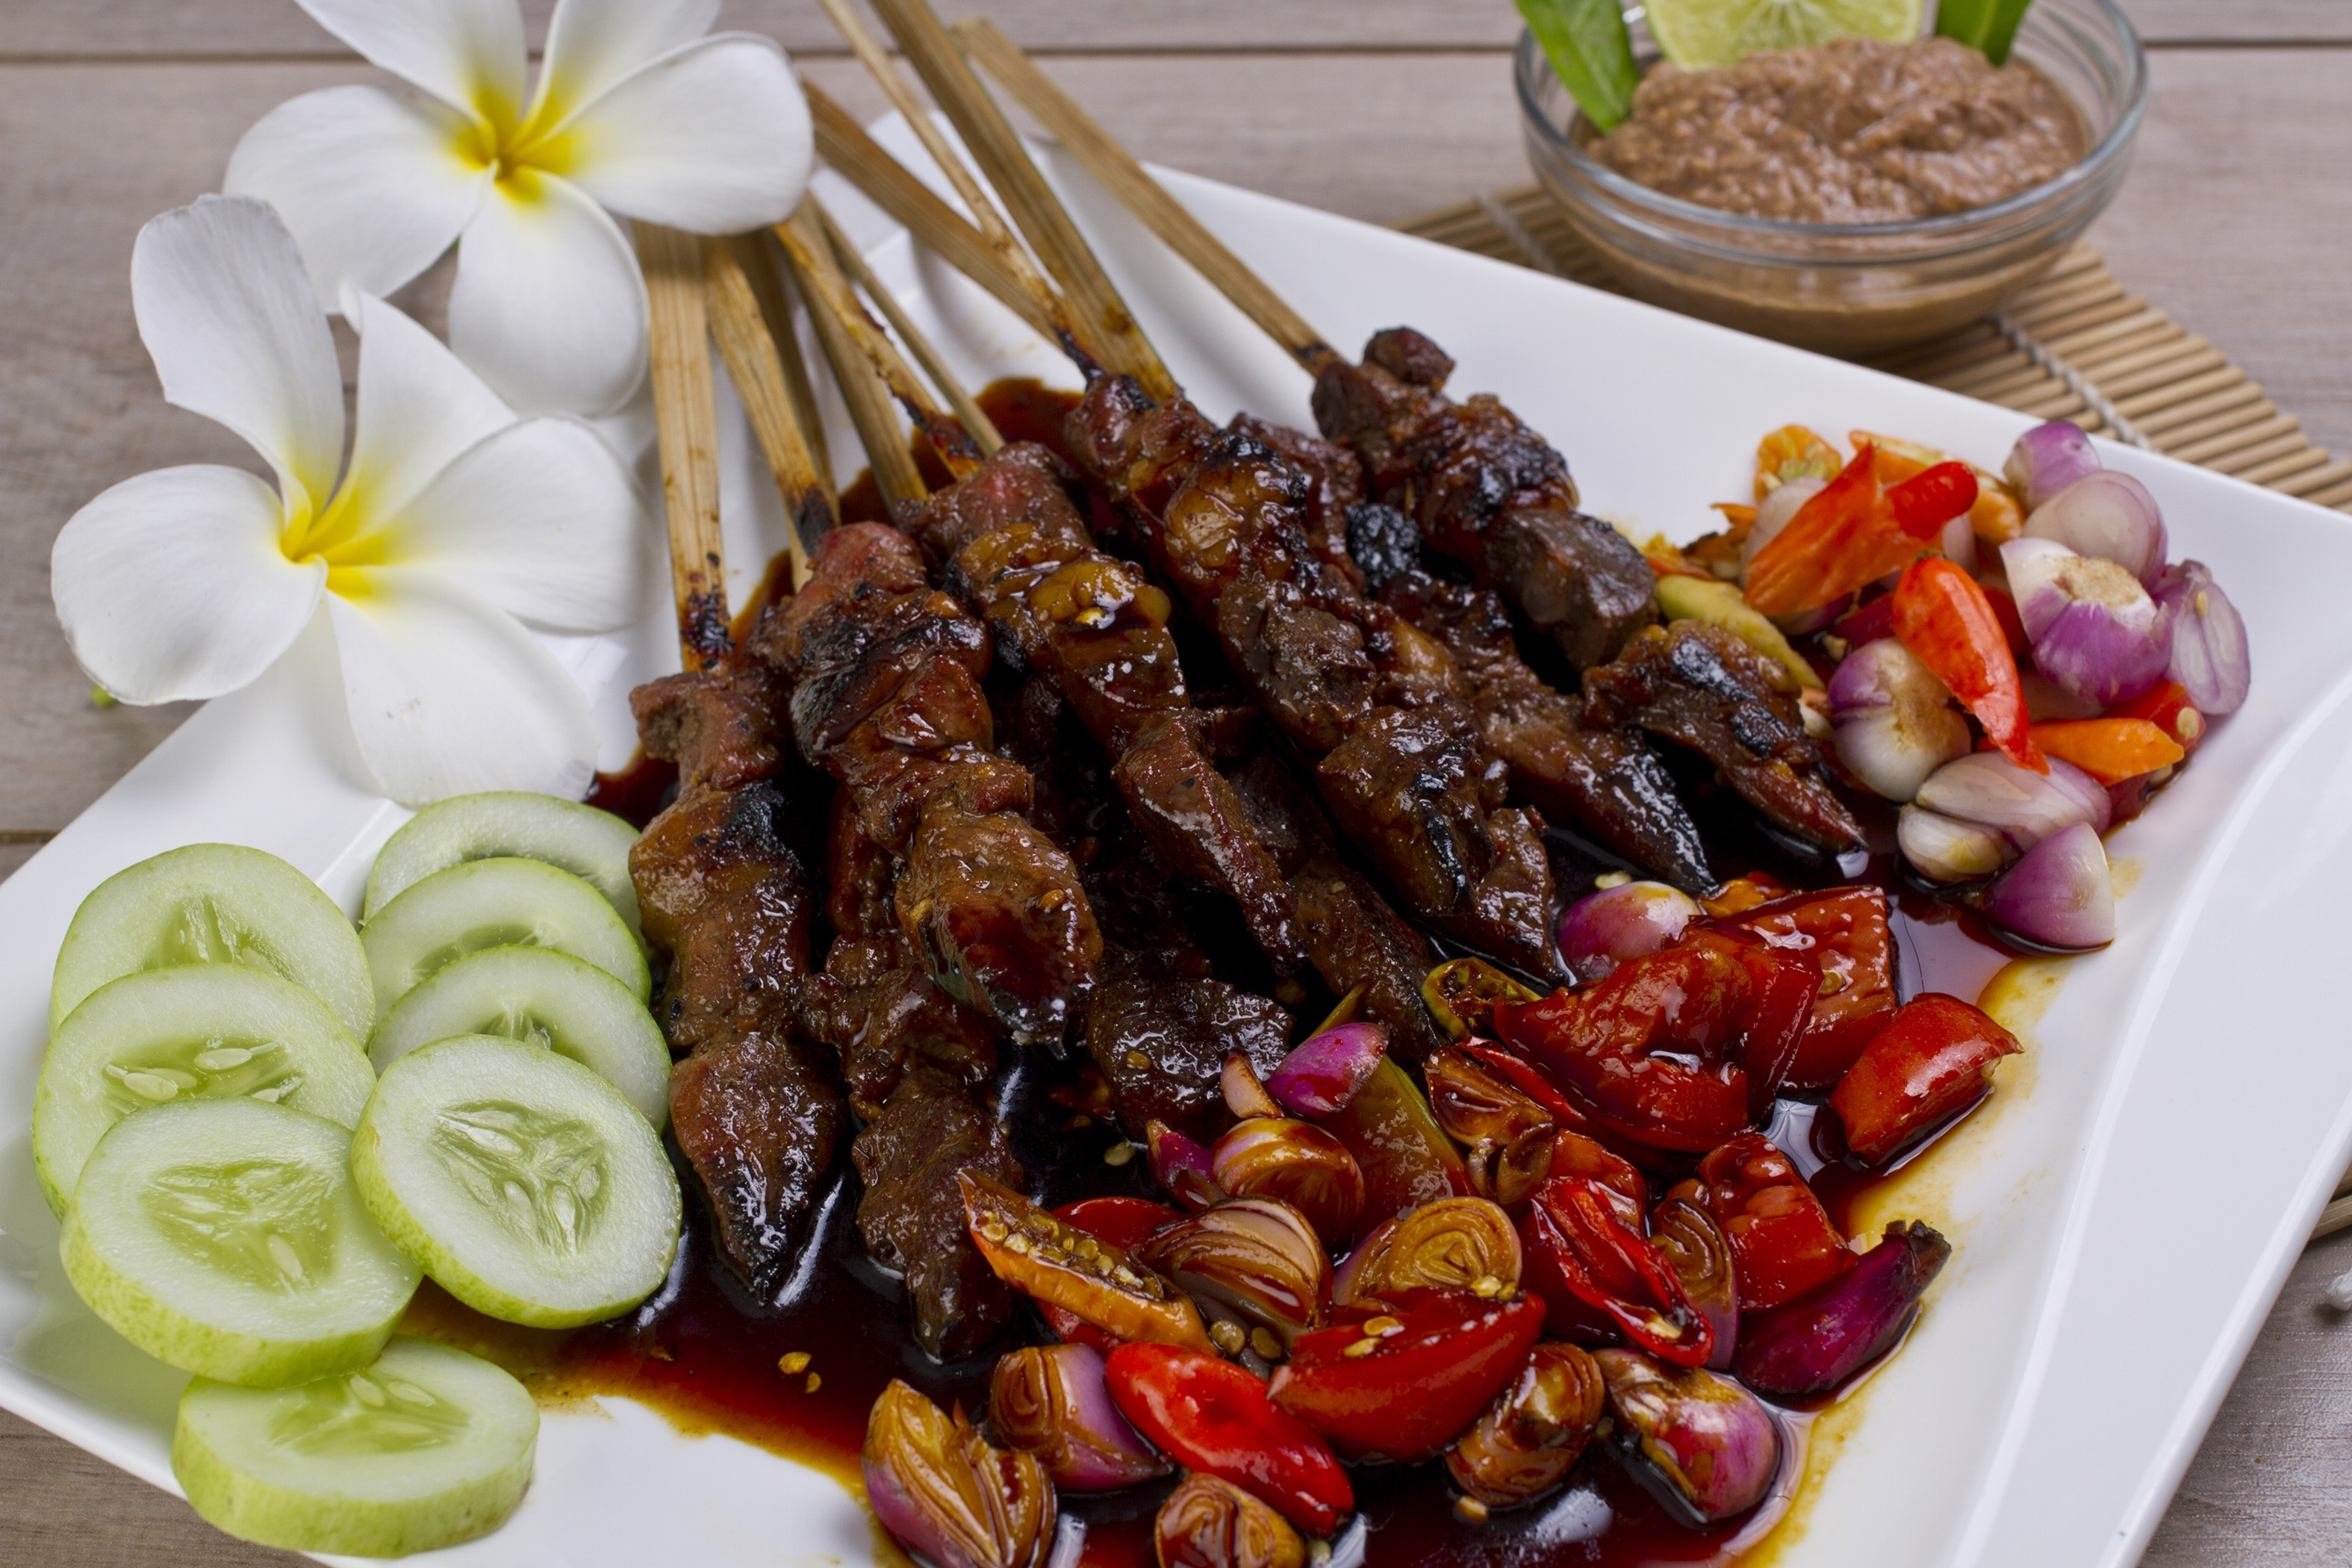sate: (527, 303, 1923, 1384)
